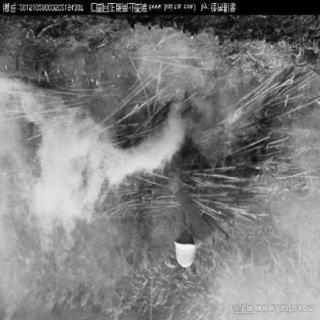other: (48, 253, 212, 309)
